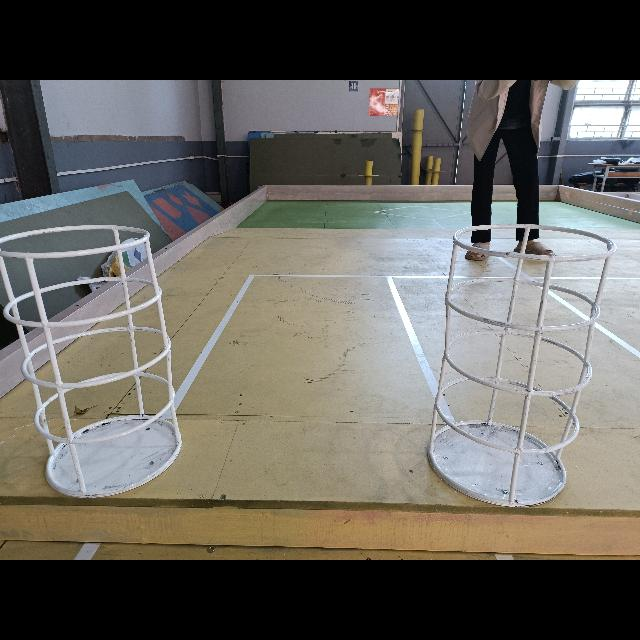S: (423, 223, 619, 510), (0, 225, 184, 500)
